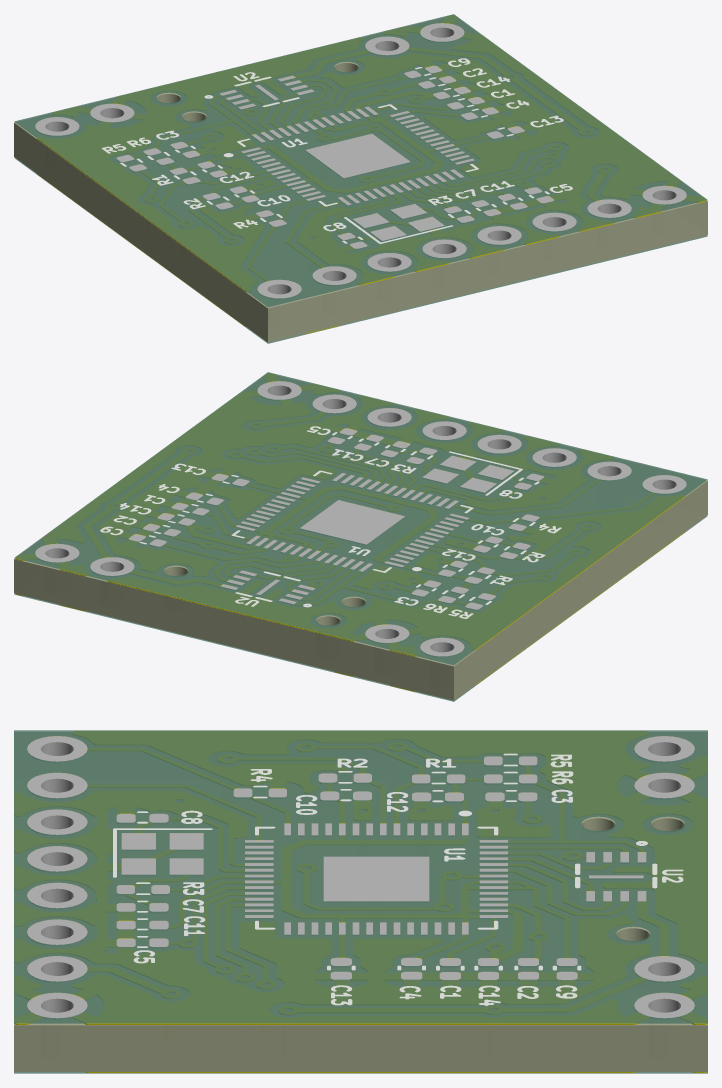
The model's file is saintcon-2023-minibadge-rp2040-72-led-matrix.glb.
3 views of the same model, one above another, from view 1: azimuth 30°, elevation 25°; view 2: azimuth 150°, elevation 25°; view 3: azimuth 270°, elevation 25° (orthographic). The views are drawn at different scales.
Visible parts, largest first — view 1: =>[0:1:1:7], =>[0:1:1:2], =>[0:1:1:9], =>[0:1:1:5]; view 2: =>[0:1:1:7], =>[0:1:1:2], =>[0:1:1:9], =>[0:1:1:5]; view 3: =>[0:1:1:7], =>[0:1:1:2], =>[0:1:1:9], =>[0:1:1:5].
Boxes of the visible parts, x1,y1,x2,y2 form: =>[0:1:1:7]: [14, 14, 707, 343]; =>[0:1:1:2]: [35, 15, 705, 333]; =>[0:1:1:9]: [14, 18, 707, 342]; =>[0:1:1:5]: [101, 58, 572, 243]; =>[0:1:1:7]: [14, 372, 707, 701]; =>[0:1:1:2]: [16, 373, 686, 691]; =>[0:1:1:9]: [14, 376, 707, 700]; =>[0:1:1:5]: [100, 426, 561, 618]; =>[0:1:1:7]: [14, 730, 707, 1073]; =>[0:1:1:2]: [14, 731, 707, 1072]; =>[0:1:1:9]: [14, 732, 707, 1071]; =>[0:1:1:5]: [113, 753, 683, 1005].
Bounding box in the file's own units: 0.0203 × 0.00166 × 0.0203.
4 materials, 4 textured.
